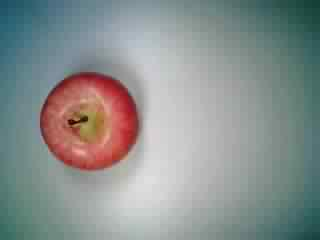apple: (39, 72, 143, 173)
